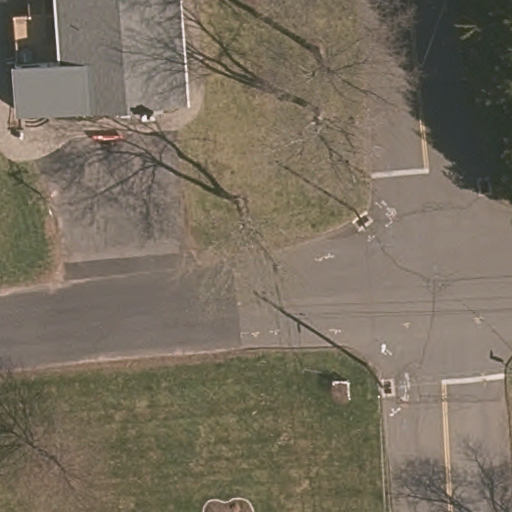DT: (357, 353, 406, 402)
